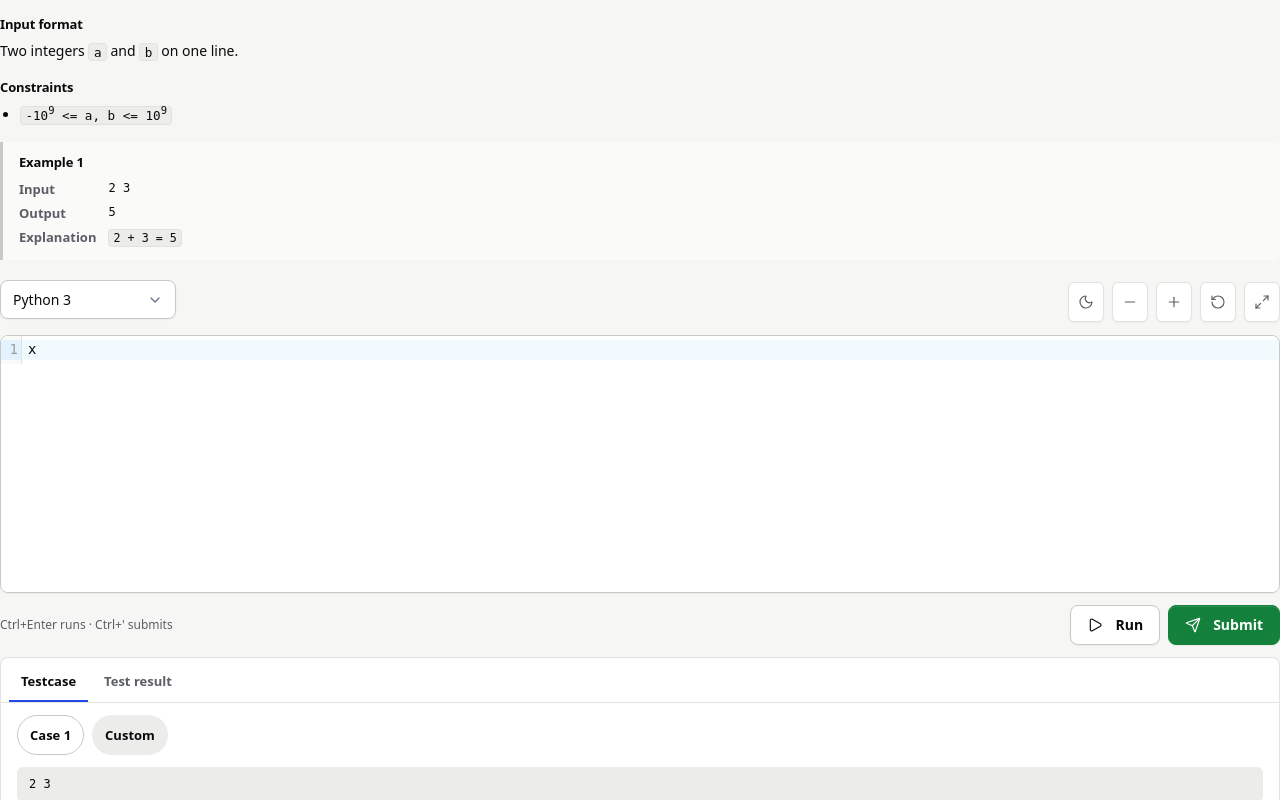
the coding workspace › says when the exam keeps hidden results until afterwards
Click the button "Submit" at {"x": 1224, "y": 626}, box 1168,606 -> 1279,646
(page scrolled)
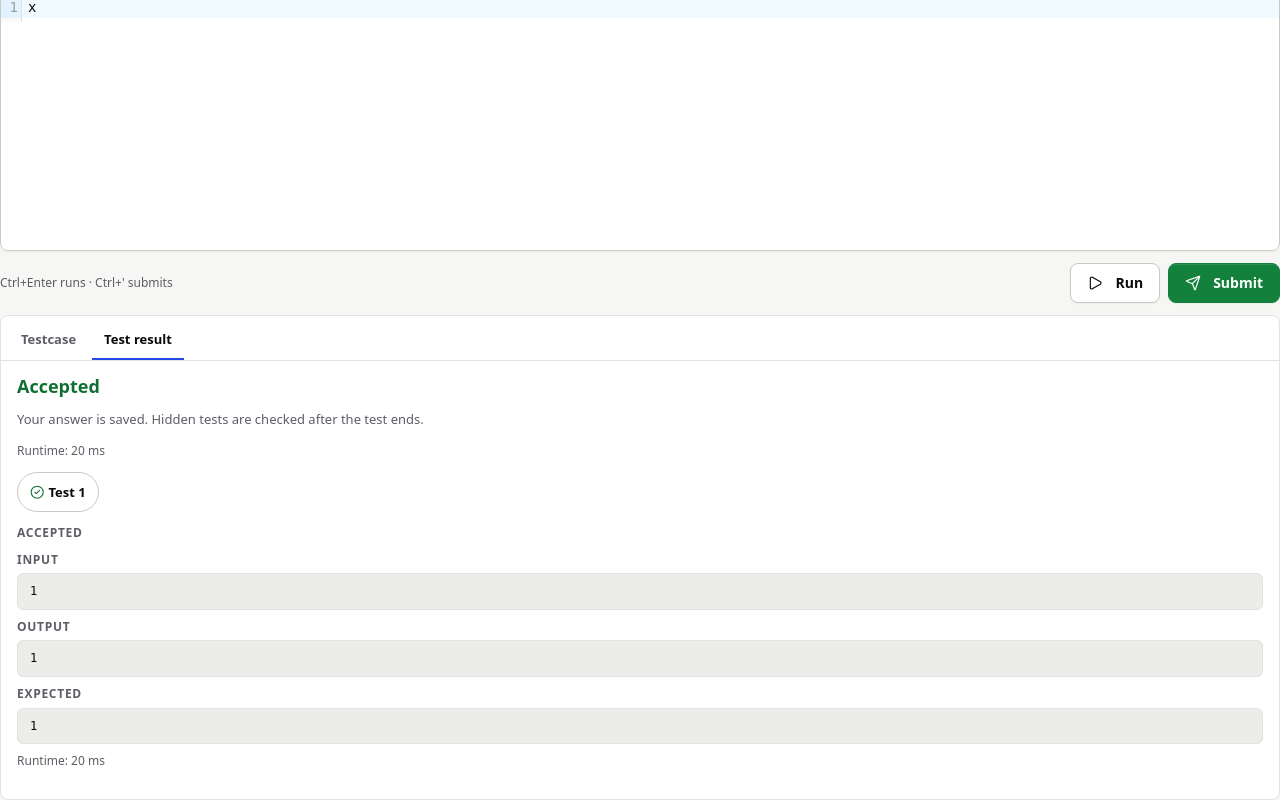
Check: the element named "Submission results" shows "Hidden tests are checked after the test ends", box 17,410 -> 424,428
